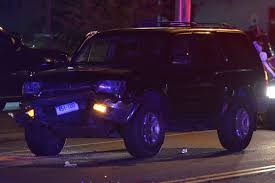Dent: (15, 97, 137, 139)
